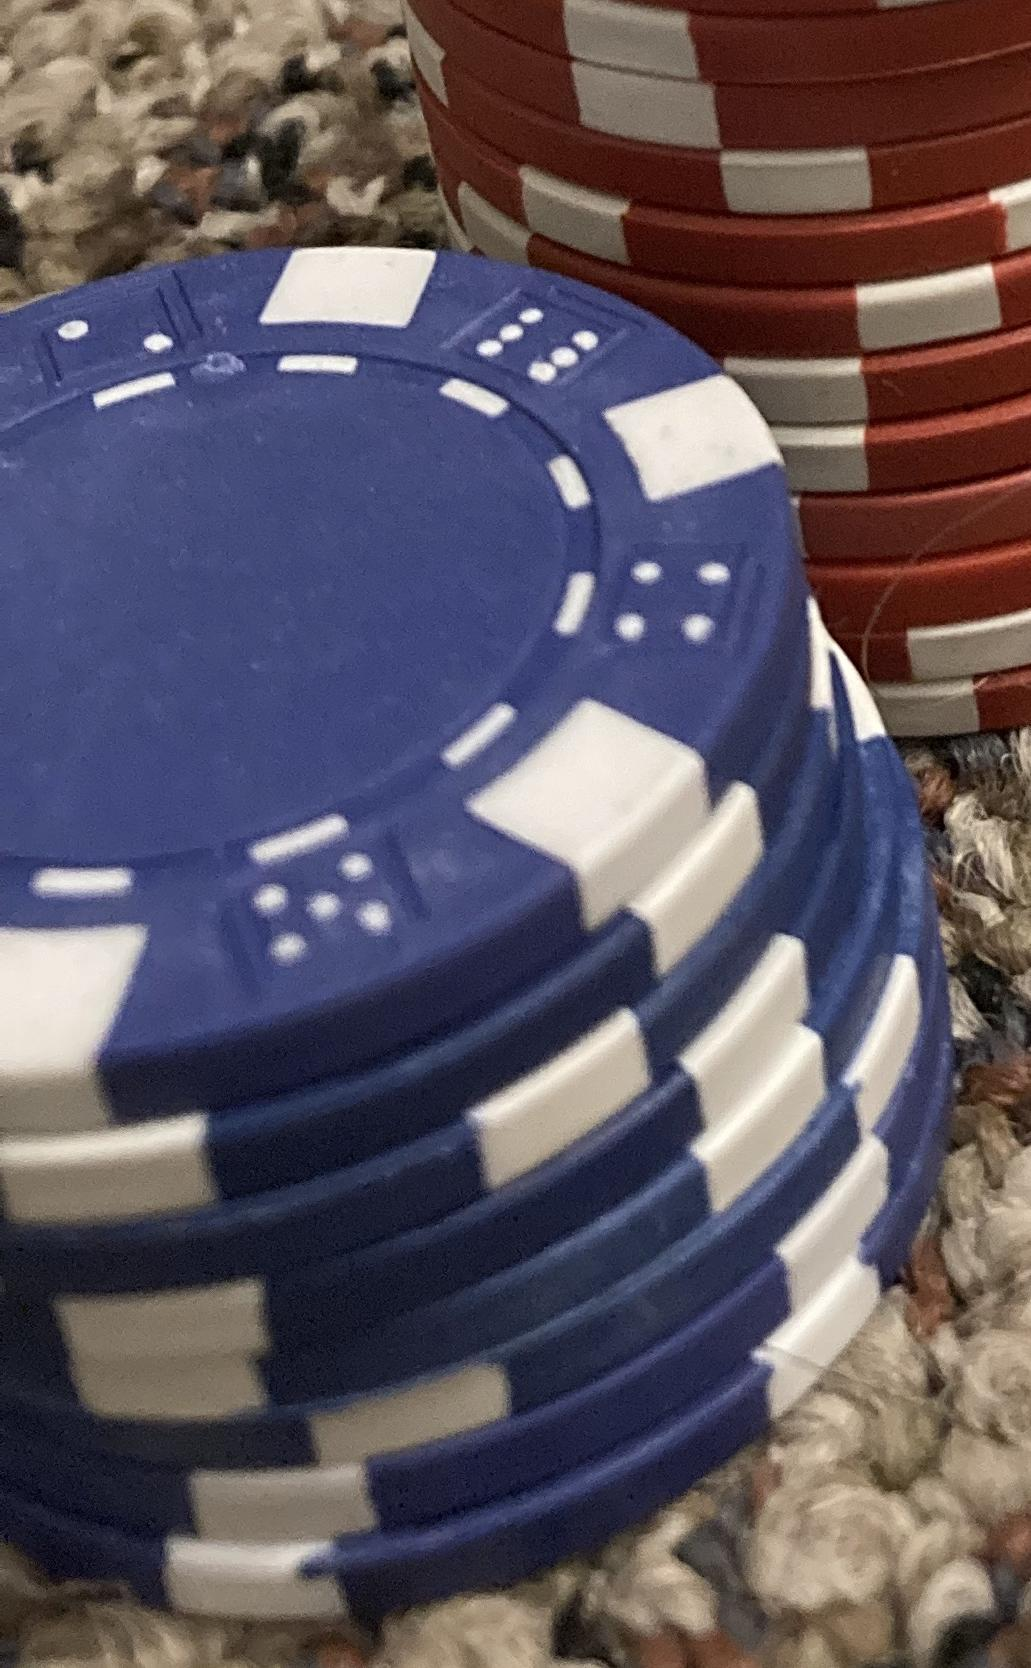Chip: (1, 1, 1031, 1668)
